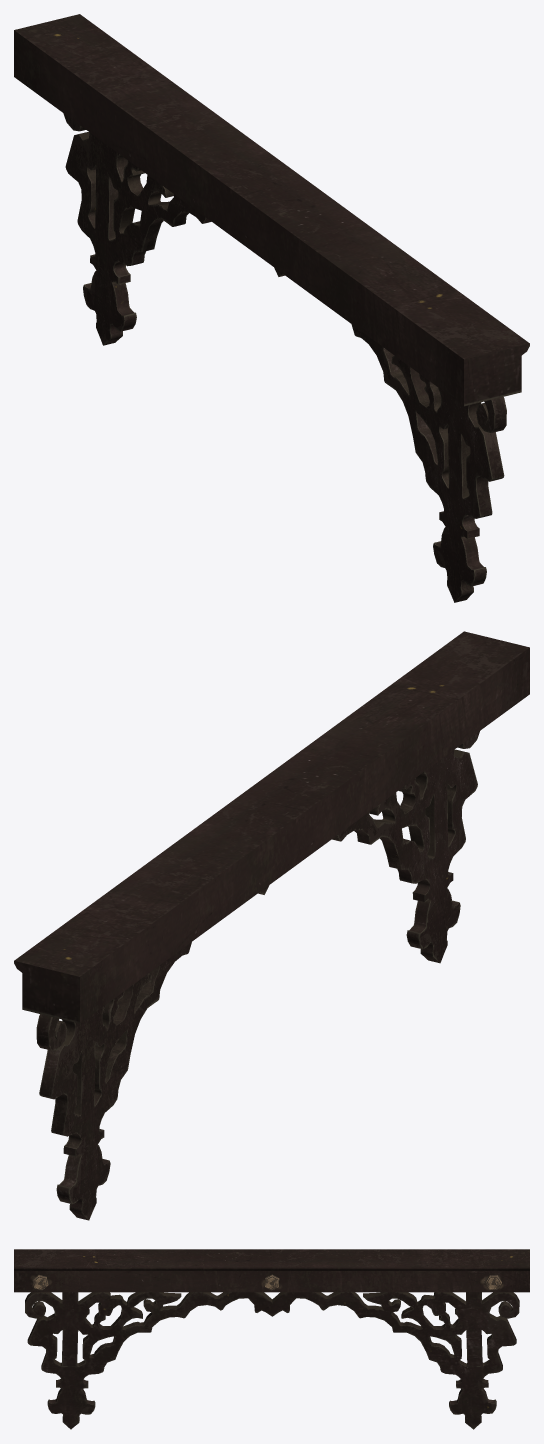
File: platform1.fbx
3 views of the same model, one above another, from view 1: azimuth 30°, elevation 25°; view 2: azimuth 150°, elevation 25°; view 3: azimuth 270°, elevation 25° (orthographic). The views are drawn at different scales.
Visible parts, largest first — view 1: platform1; view 2: platform1; view 3: platform1.
Part boxes in pixels (x1,y1,x2,y2): platform1: (14, 14, 529, 602); platform1: (14, 631, 529, 1220); platform1: (14, 1249, 529, 1429).
Size of the model in its own units: 25.53 by 107 by 302.
